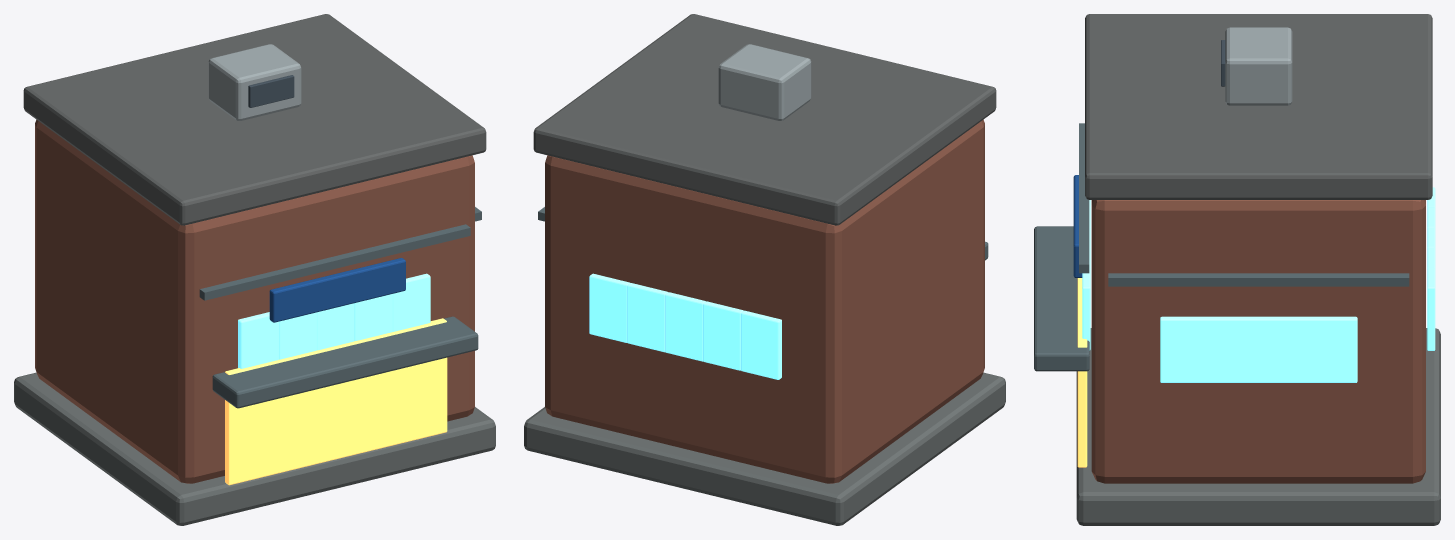
File: commercial_corner_shop.glb
3 renders of one model, left to right at view 1: azimuth 30°, elevation 25°; view 2: azimuth 150°, elevation 25°; view 3: azimuth 270°, elevation 25°, orthographic. The views are drawn at different scales.
Visible parts, largest first — view 1: main_massing, roof_slab, foundation, storefront_glazing, storefront_awning, hvac_unit, shop_sign, facade_band_front, front_window, front_window.004, front_window.003, front_window.001 (+2 smaller); view 2: main_massing, roof_slab, foundation, hvac_unit, rear_window, rear_window.003, rear_window.004, rear_window.002, rear_window.001; view 3: main_massing, roof_slab, foundation, storefront_awning, hvac_unit, facade_band_side, side_window, side_window.003, side_window.001, side_window.002, storefront_glazing, facade_band_front (+3 smaller).
Boxes of the visible parts, x1,y1,x2,y2 form: main_massing: [35, 119, 474, 483]; roof_slab: [23, 14, 486, 225]; foundation: [14, 372, 495, 525]; storefront_glazing: [225, 318, 447, 485]; storefront_awning: [212, 316, 478, 408]; hvac_unit: [208, 44, 301, 120]; shop_sign: [269, 258, 405, 322]; facade_band_front: [199, 224, 470, 300]; front_window: [238, 312, 278, 368]; front_window.004: [392, 273, 430, 331]; front_window.003: [354, 294, 392, 340]; front_window.001: [279, 312, 316, 359]; main_massing: [545, 119, 984, 483]; roof_slab: [533, 14, 996, 225]; foundation: [524, 372, 1005, 525]; hvac_unit: [718, 44, 811, 120]; rear_window: [741, 310, 781, 379]; rear_window.003: [627, 283, 667, 352]; rear_window.004: [589, 273, 629, 342]; rear_window.002: [665, 292, 705, 361]; rear_window.001: [703, 301, 743, 370]; main_massing: [1091, 200, 1425, 483]; roof_slab: [1085, 14, 1432, 199]; foundation: [1076, 328, 1440, 525]; storefront_awning: [1034, 226, 1089, 371]; hvac_unit: [1225, 27, 1292, 105]; facade_band_side: [1108, 273, 1409, 286]; side_window: [1307, 316, 1357, 382]; side_window.003: [1160, 316, 1210, 382]; side_window.001: [1258, 316, 1307, 382]; side_window.002: [1210, 316, 1258, 382]; storefront_glazing: [1077, 278, 1087, 467]; facade_band_front: [1079, 123, 1089, 273].
Bounding box in the file's own units: 1.08 × 1.19 × 1.09.
